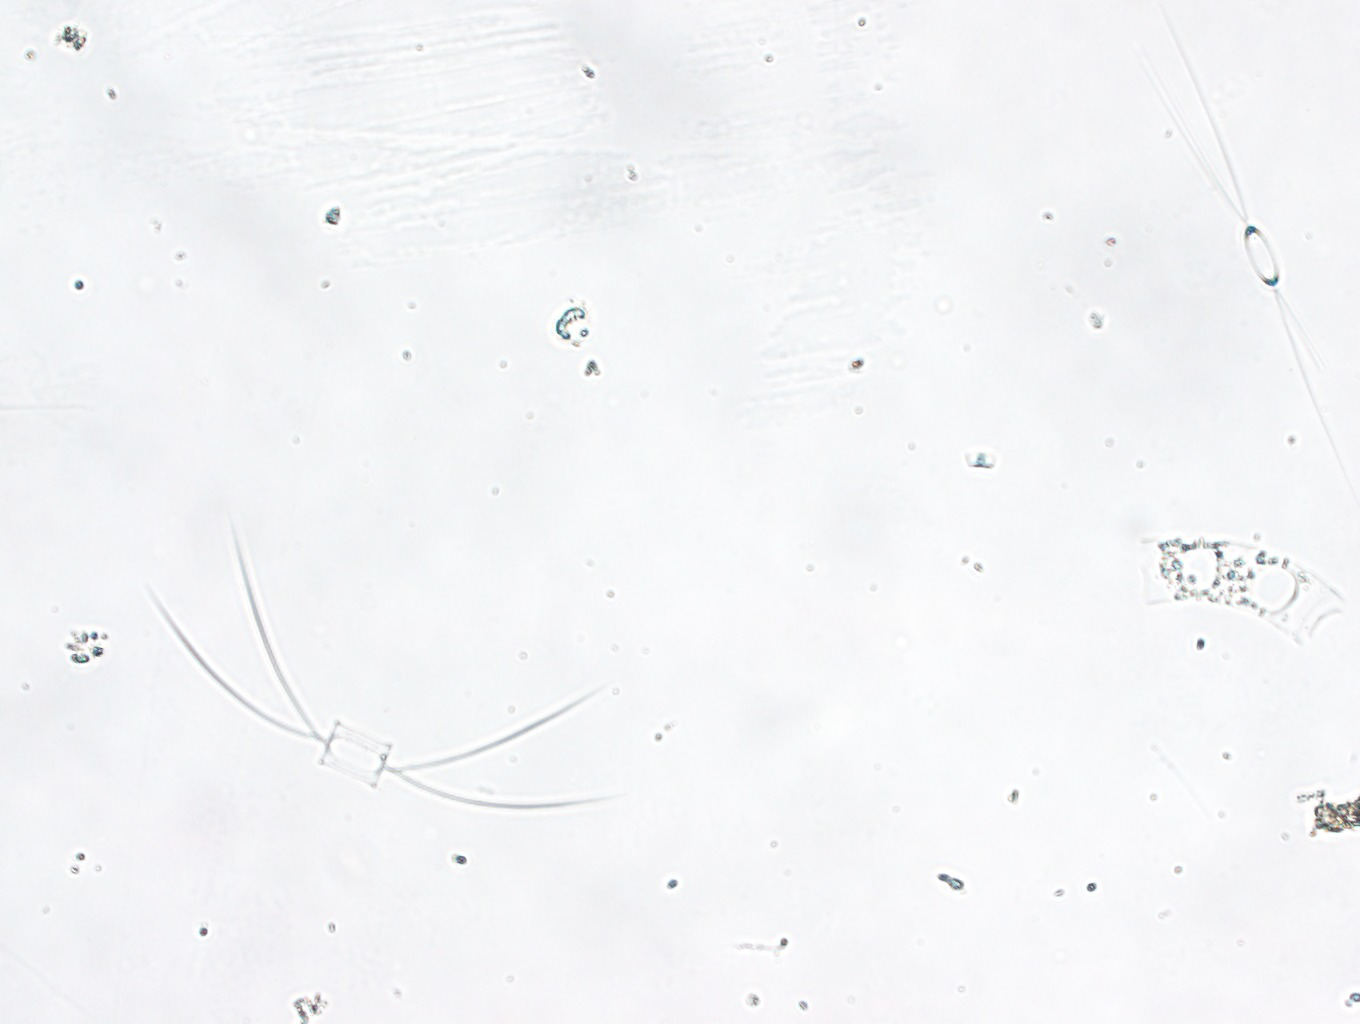chaetoceros: (147, 510, 618, 808), (1139, 3, 1356, 500)
eucampia: (1136, 537, 1346, 643)
